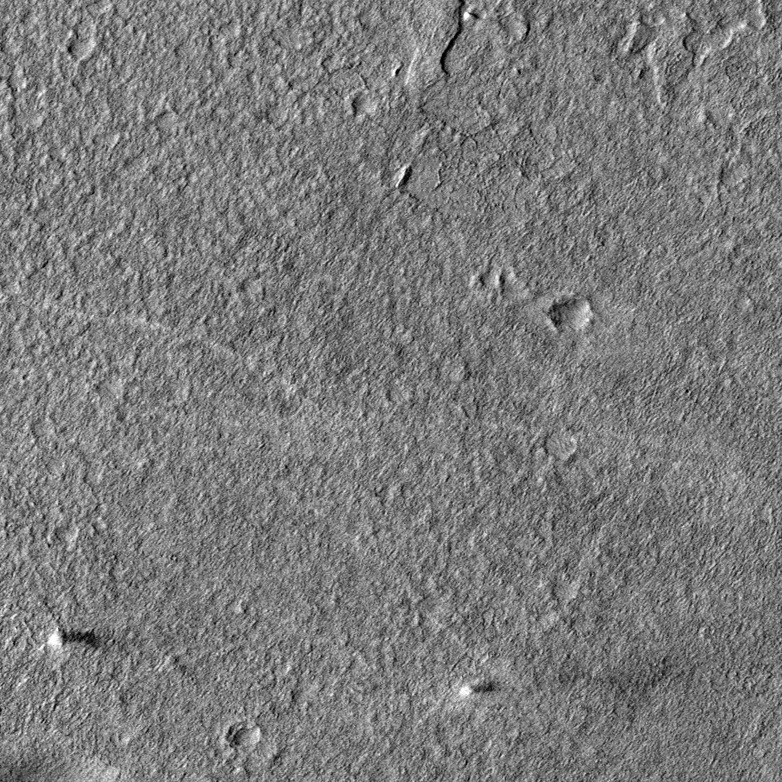dust_devil: (45, 625, 103, 651), (457, 679, 502, 699)
